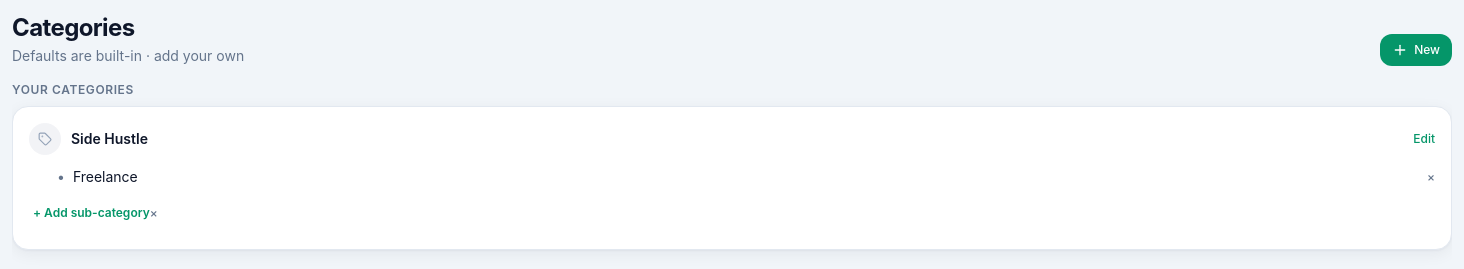
Test case: Categories page › deletes a custom sub-category with a two-tap confirm
Expected: the text "Freelance" is shown, [73, 168, 138, 185]
Click the button "×" in the row of "Freelance": (1431, 177) [1427, 169, 1435, 185]
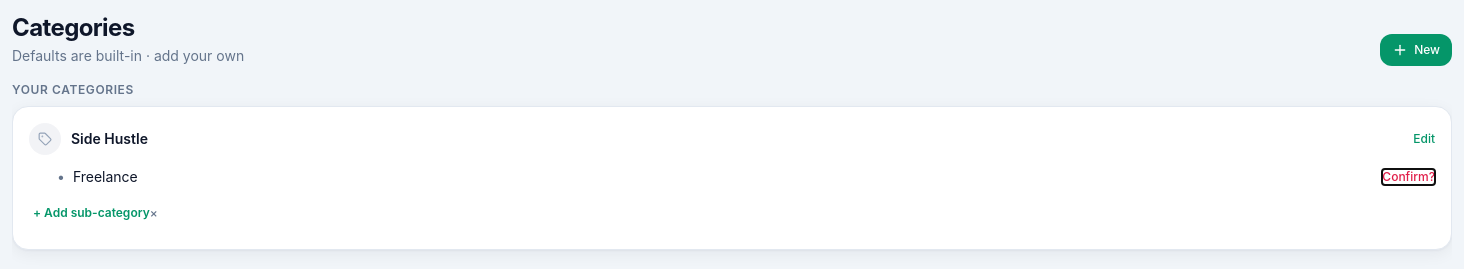
Click the button "Confirm?": (1409, 177) [1382, 169, 1435, 185]
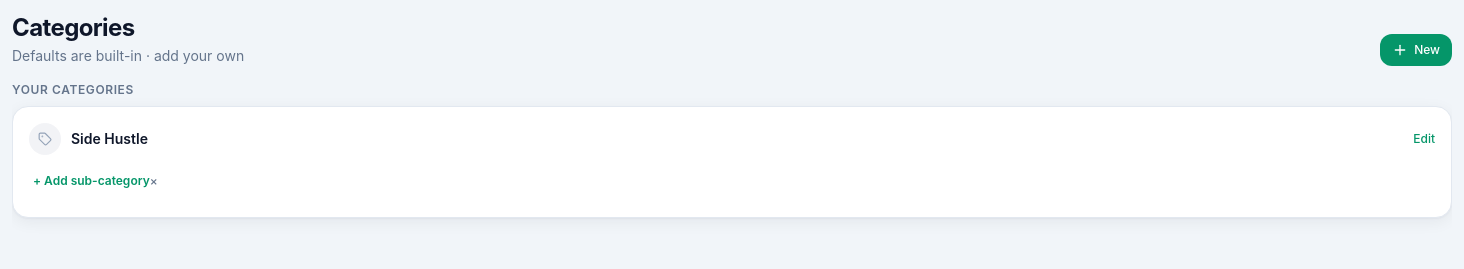
Result: the text "Freelance" is gone
